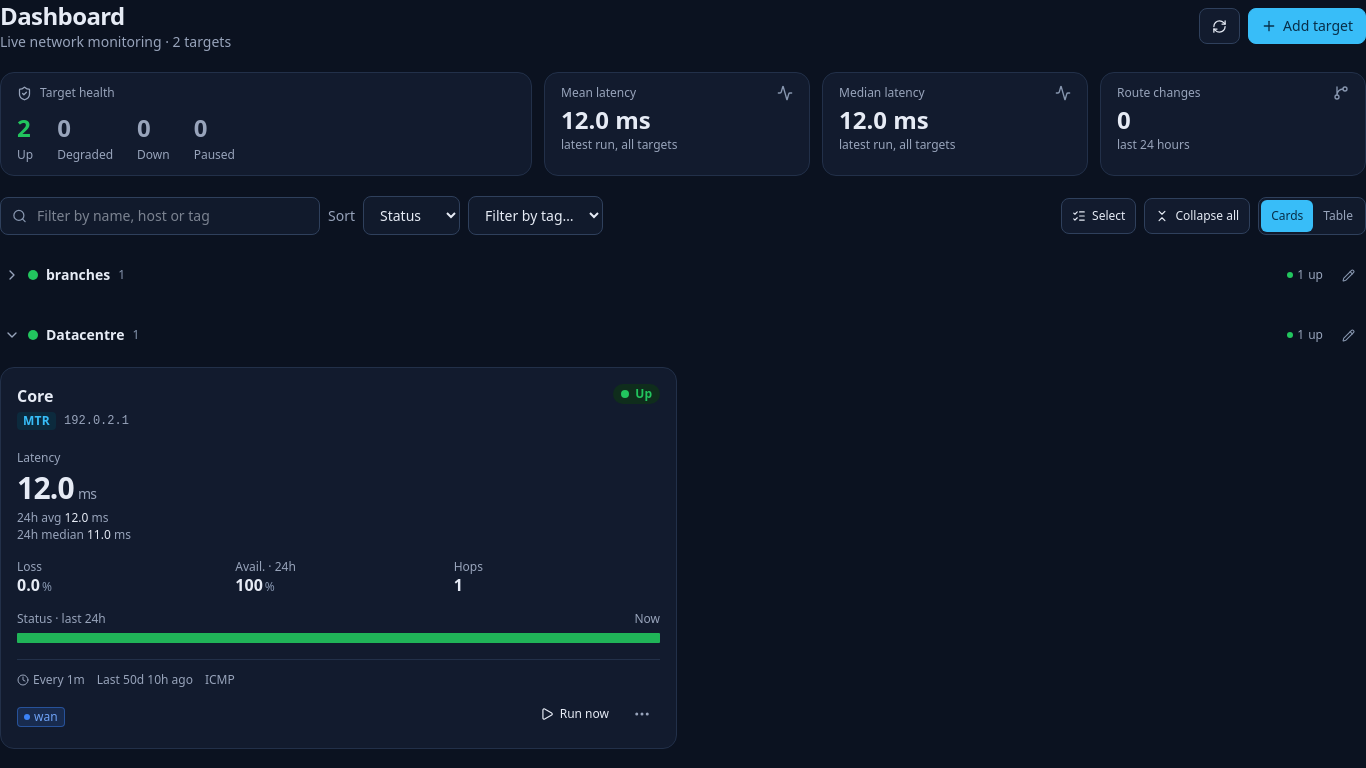
Test: dashboard › renames a group, warns before merging and keeps it collapsed
This screenshot has width=1366, height=768.
Expected: the element "Core" is shown, [0,367,677,749]
Click the button named "Rename group branches" at (1348, 275), box [1331,257,1365,293]
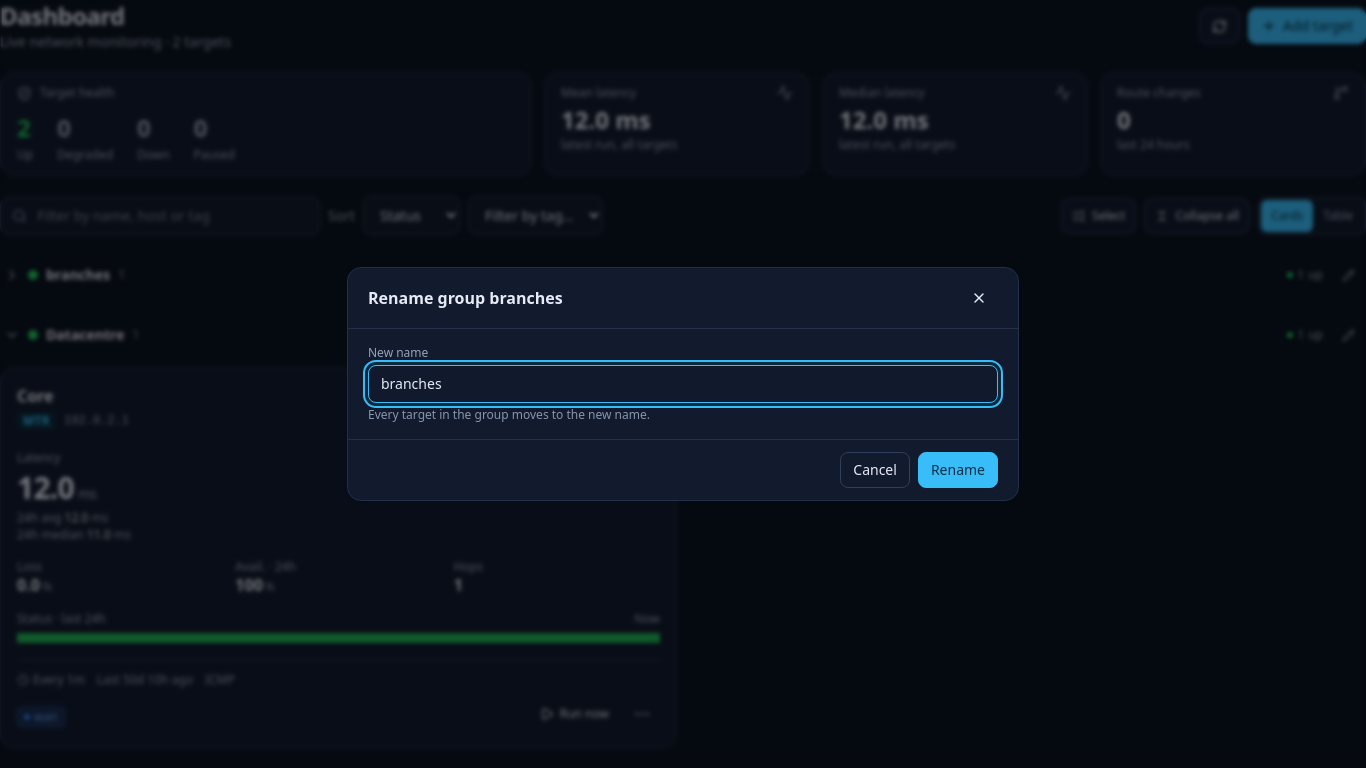
Replace the text in the field labelled "New name" with "Datacentre" at (683, 384), box [368,365,998,403]
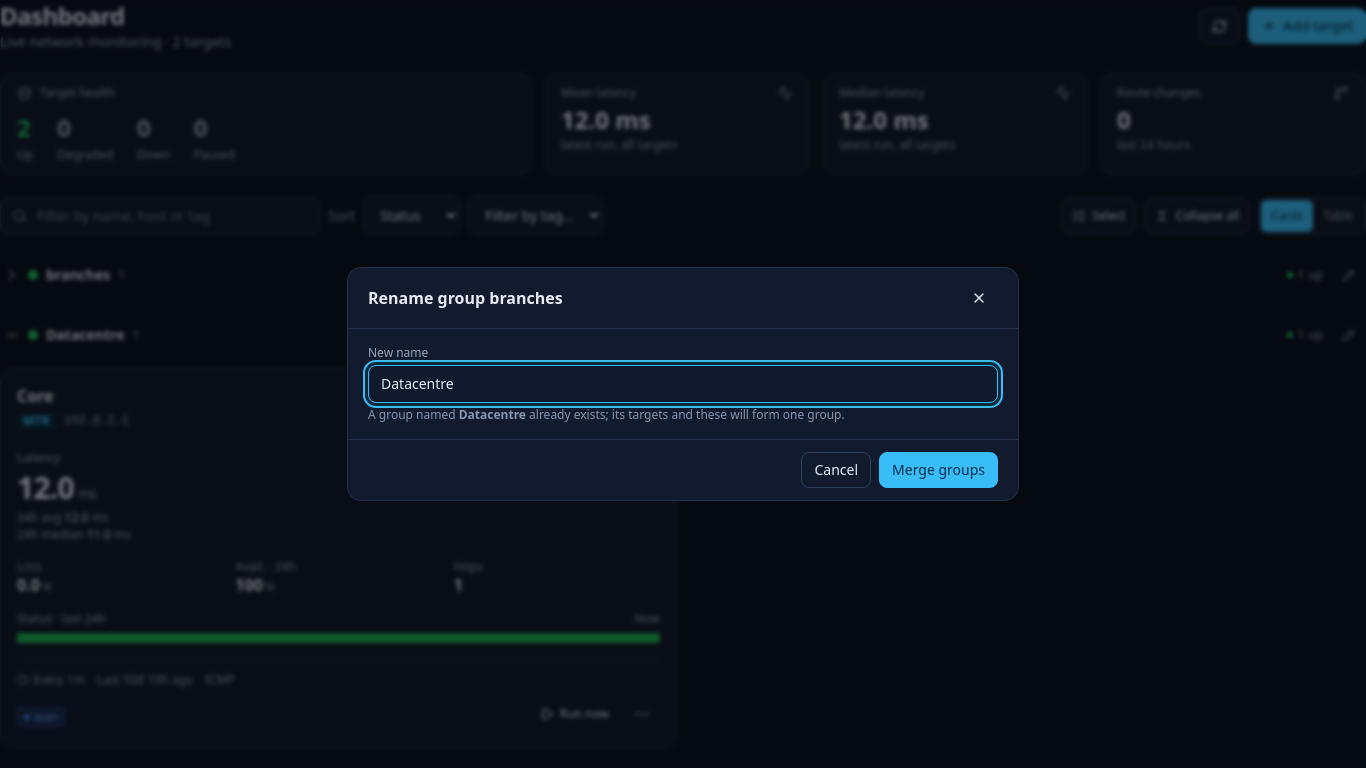
Expected: the element with test id "rename-group-help" shows "already exists", [526,406,845,423]
Expected: the button "Merge groups" is shown, [879,452,998,488]
Replace the text in the field labelled "New name" with "Branch  offices" at (683, 384), box [368,365,998,403]
Then press Enter
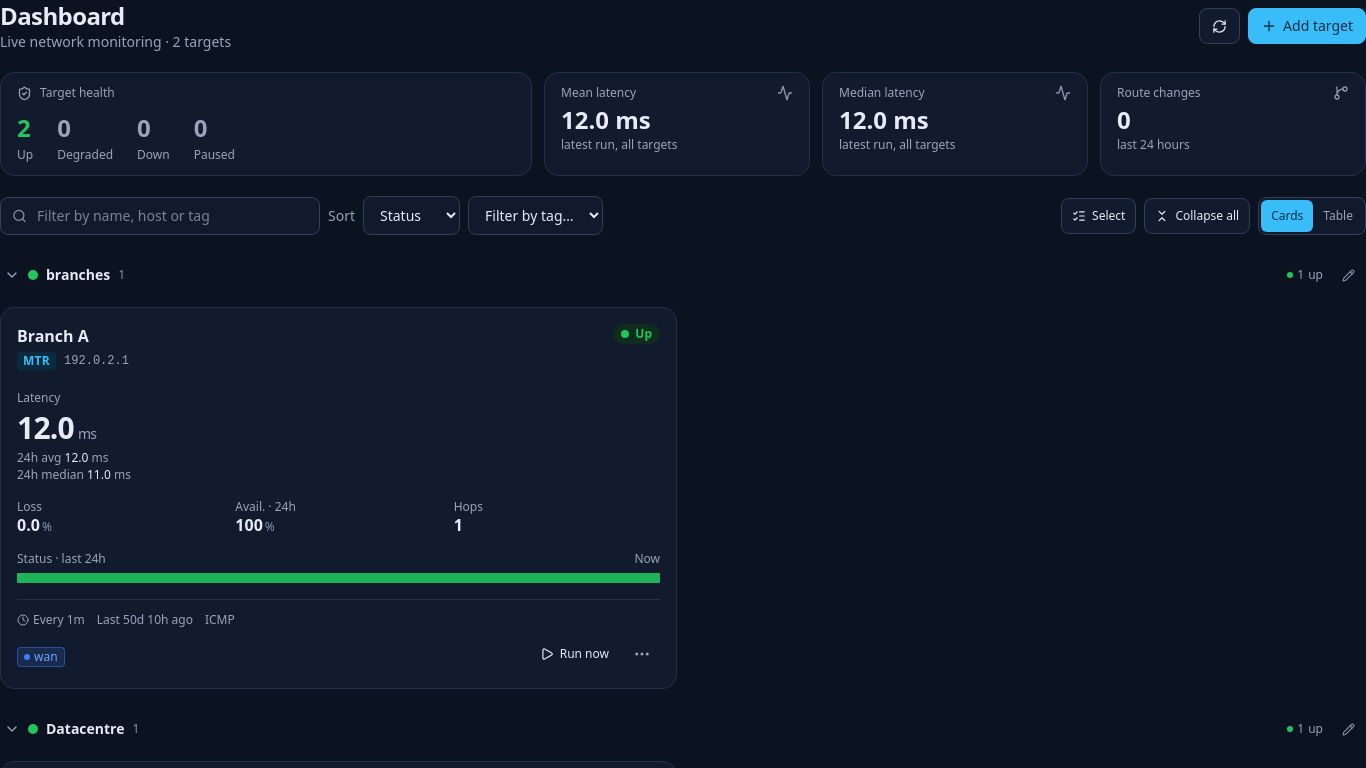
Expected: the label "New name" is gone
